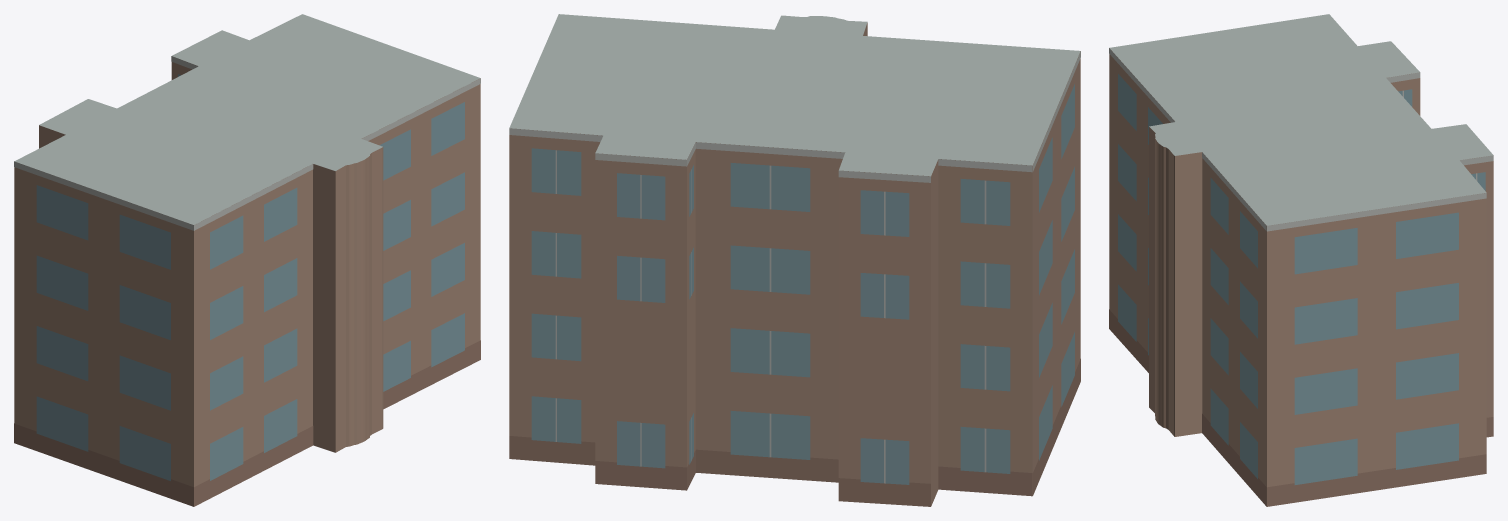
Rendered from survey-upis-32530191.glb.
3 renders of one model, left to right at view 1: azimuth 30°, elevation 25°; view 2: azimuth 150°, elevation 25°; view 3: azimuth 270°, elevation 25°, orthographic. The views are drawn at different scales.
Visible parts, largest first — view 1: survey-upis-32530191.tmp; view 2: survey-upis-32530191.tmp; view 3: survey-upis-32530191.tmp.
Boxes of the visible parts, x1,y1,x2,y2 form: survey-upis-32530191.tmp: [14, 14, 480, 506]; survey-upis-32530191.tmp: [509, 14, 1080, 506]; survey-upis-32530191.tmp: [1109, 14, 1493, 506].
Size of the model in its own units: 19.41 by 12 by 14.89.
